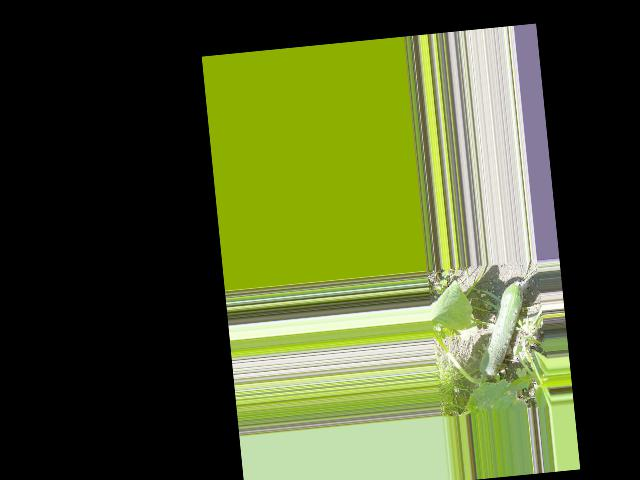cucumber: (471, 281, 531, 378)
